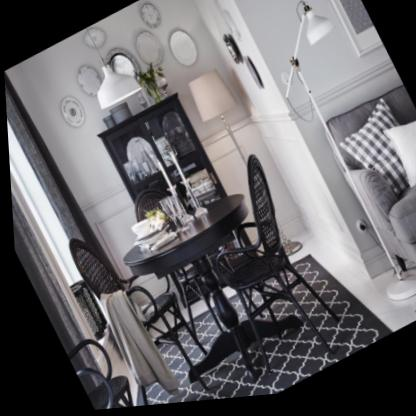Sofa: (311, 83, 416, 328)
Table: (401, 196, 416, 312)
